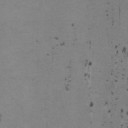oxide scale of temperature system: (105, 44, 128, 128), (64, 58, 92, 92), (104, 0, 121, 26), (54, 36, 66, 46), (89, 101, 94, 108), (70, 22, 74, 27), (46, 52, 50, 56), (89, 40, 92, 45)
